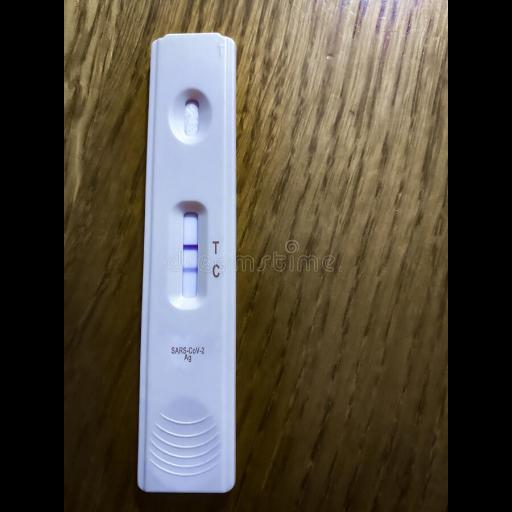Pos: (140, 32, 234, 488)
